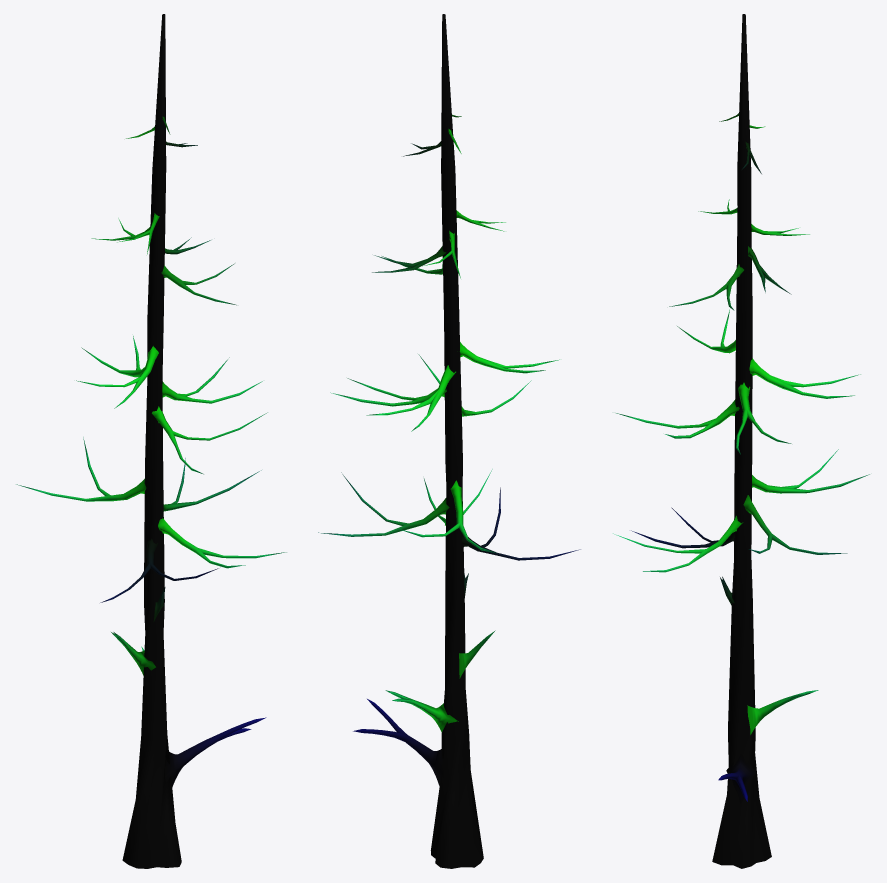
Rendered from Pine03Collider.fbx.
The picture shows the model from 3 angles, left to right: view 1: azimuth 30°, elevation 25°; view 2: azimuth 150°, elevation 25°; view 3: azimuth 270°, elevation 25°; orthographic projection.
Parts seen in each view (by area): view 1: Pine03Collider; view 2: Pine03Collider; view 3: Pine03Collider.
Part boxes in pixels (box(x1,y1,x2,y2)): Pine03Collider: box(16, 14, 286, 868); Pine03Collider: box(318, 14, 580, 868); Pine03Collider: box(613, 14, 869, 868).
Bounding box in the file's own units: 177 × 700 × 196.
